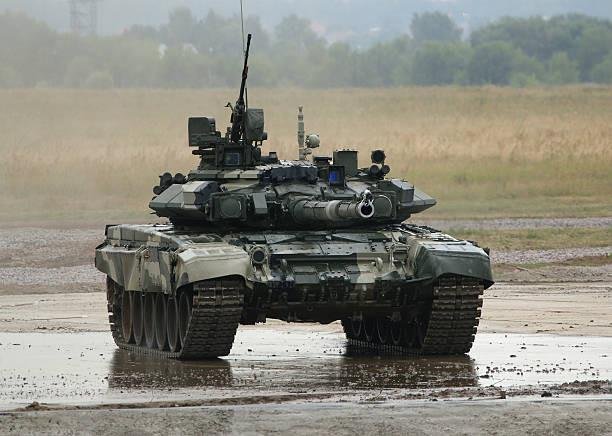tank: (95, 106, 497, 358)
